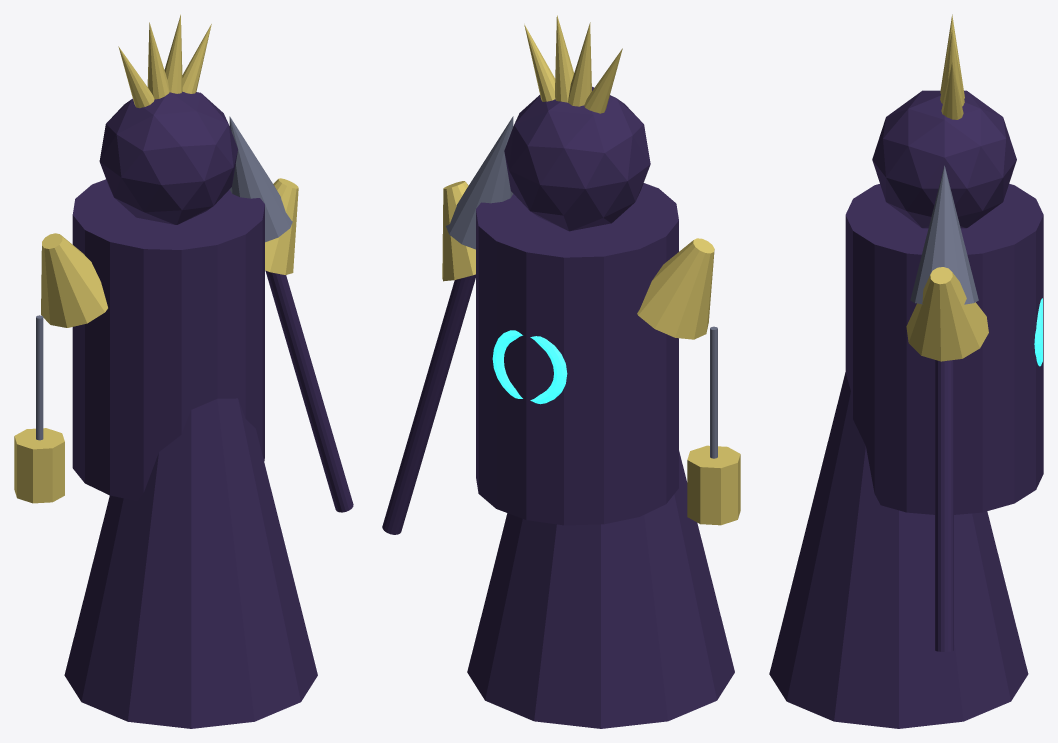
The model's file is dusk-warden.glb.
3 views of the same model, side by side, from view 1: azimuth 30°, elevation 25°; view 2: azimuth 150°, elevation 25°; view 3: azimuth 270°, elevation 25° (orthographic). The views are drawn at different scales.
Parts seen in each view (by area): view 1: warden-cape, warden-torso, warden-head, warden-blade-shaft, warden-shoulder-0, warden-lantern-body, warden-blade-tip, warden-shoulder-1, warden-lantern-chain, warden-crown-spike-1, warden-crown-spike-2, warden-crown-spike-0 (+1 smaller); view 2: warden-torso, warden-cape, warden-head, warden-blade-shaft, warden-shoulder-0, warden-lantern-body, warden-blade-tip, warden-shoulder-1, warden-core, warden-crown-spike-1, warden-crown-spike-2, warden-lantern-chain (+2 smaller); view 3: warden-cape, warden-torso, warden-head, warden-blade-shaft, warden-shoulder-1, warden-blade-tip, warden-crown-spike-3, warden-crown-spike-2.
Part boxes in pixels (x1,y1,x2,y2): warden-cape: [64, 398, 317, 728]; warden-torso: [72, 179, 264, 500]; warden-head: [99, 91, 237, 224]; warden-blade-shaft: [265, 270, 353, 512]; warden-shoulder-0: [41, 233, 107, 327]; warden-lantern-body: [14, 428, 64, 503]; warden-blade-tip: [229, 116, 292, 242]; warden-shoulder-1: [265, 178, 298, 274]; warden-lantern-chain: [36, 315, 43, 440]; warden-crown-spike-1: [147, 22, 169, 99]; warden-crown-spike-2: [164, 14, 182, 93]; warden-crown-spike-0: [118, 46, 154, 108]; warden-torso: [476, 183, 678, 525]; warden-cape: [467, 451, 734, 728]; warden-head: [504, 86, 650, 231]; warden-blade-shaft: [382, 274, 475, 534]; warden-shoulder-0: [637, 238, 714, 339]; warden-lantern-body: [687, 445, 740, 525]; warden-blade-tip: [446, 116, 513, 249]; warden-shoulder-1: [442, 181, 475, 281]; warden-core: [492, 330, 567, 404]; warden-crown-spike-1: [568, 22, 591, 106]; warden-crown-spike-2: [555, 15, 573, 102]; warden-lantern-chain: [710, 326, 717, 458]; warden-cape: [769, 372, 1028, 728]; warden-torso: [845, 183, 1043, 514]; warden-head: [872, 90, 1016, 228]; warden-blade-shaft: [935, 360, 953, 651]; warden-shoulder-1: [906, 267, 988, 361]; warden-blade-tip: [910, 165, 978, 304]; warden-crown-spike-3: [941, 62, 963, 119]; warden-crown-spike-2: [940, 30, 964, 106].
Bounding box in the file's own units: 1.04 × 1.89 × 0.72.
